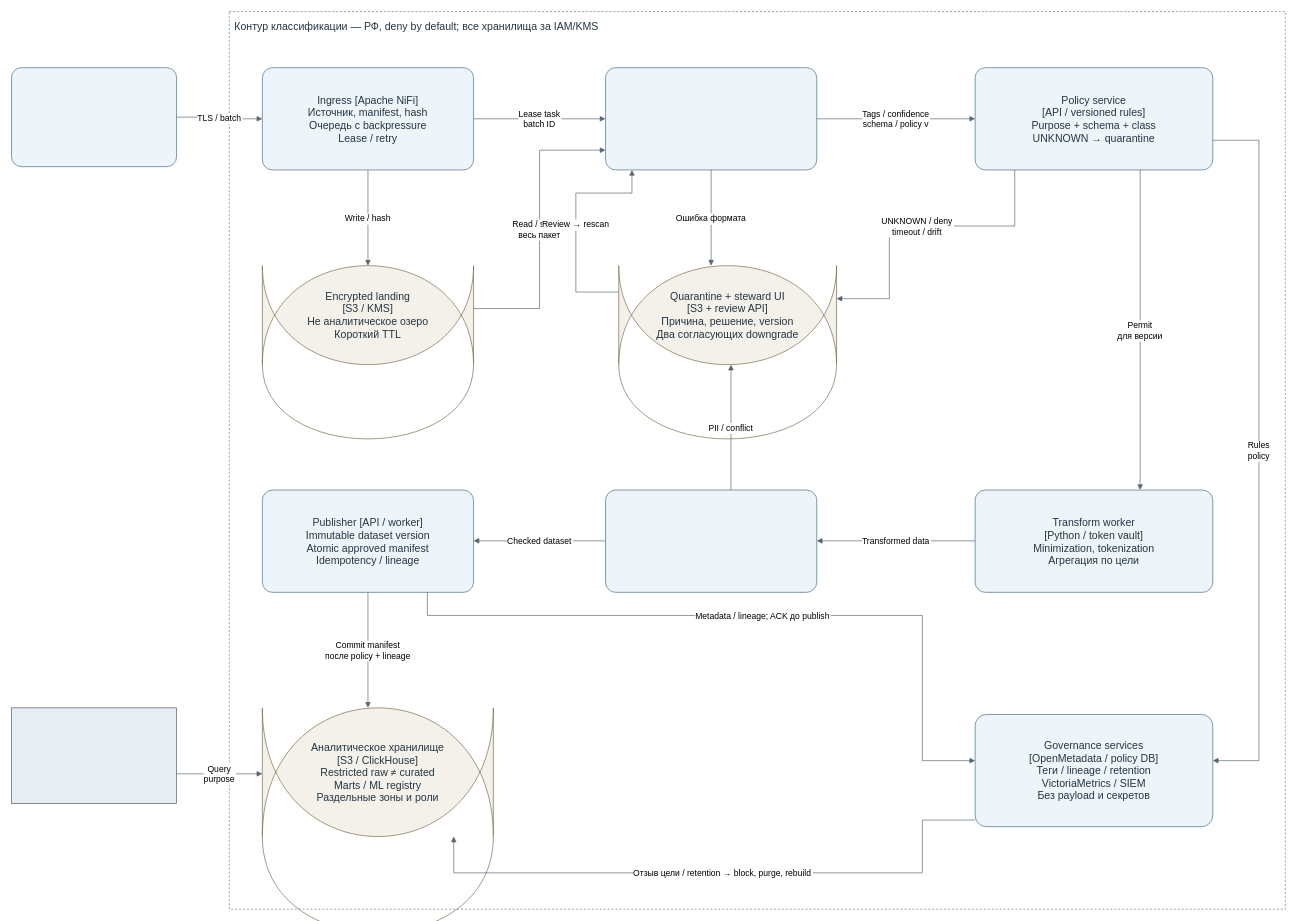
The diagram is 1297 pixels wide and 921 high, and some of its shapes have lost their labels. The centre of each missing label's shape, as x and y in pixels:
"Classifier workers [Python / OCR / NER] AV, полный scan, schema drift, теги" belongs at (711,118).
"Output validation [Python / rules] Повторный PII scan Completeness / policy" belongs at (711,540).
"Аналитик / ML-инженер [Person] Без raw / quarantine" belongs at (94,755).
"Разрешённые источники [External Systems] Excel / 1С / clinical export" belongs at (94,117).
